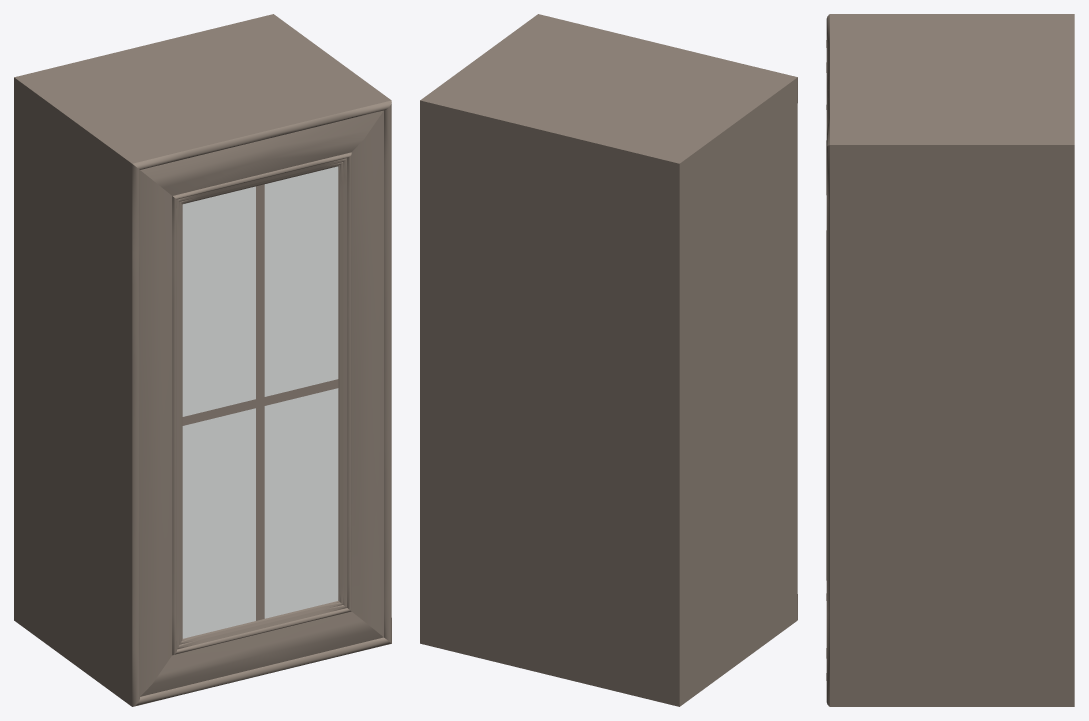
File: Wall-Cabinet-with-Doors-Prepped-for-Glass_std_001_W15in.glb
3 views of the same model, side by side, from view 1: azimuth 30°, elevation 25°; view 2: azimuth 150°, elevation 25°; view 3: azimuth 270°, elevation 25° (orthographic). The views are drawn at different scales.
Parts seen in each view (by area): view 1: Wall-Cabinet-with-Doors-Prepped-for-Glass.std.001_W15in; view 2: Wall-Cabinet-with-Doors-Prepped-for-Glass.std.001_W15in; view 3: Wall-Cabinet-with-Doors-Prepped-for-Glass.std.001_W15in.
Boxes of the visible parts, x1,y1,x2,y2 form: Wall-Cabinet-with-Doors-Prepped-for-Glass.std.001_W15in: (14,14,391,706); Wall-Cabinet-with-Doors-Prepped-for-Glass.std.001_W15in: (420,14,797,706); Wall-Cabinet-with-Doors-Prepped-for-Glass.std.001_W15in: (826,14,1074,706).
Size of the model in its own units: 0.381 by 0.762 by 0.3048.
